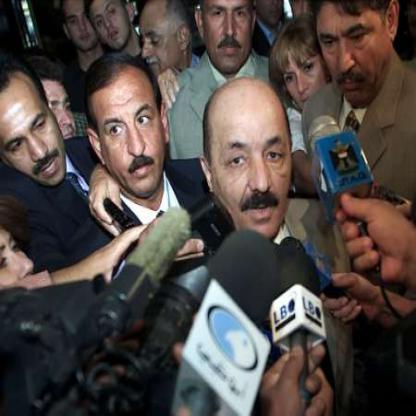face: (210, 79, 295, 245), (99, 51, 163, 198), (319, 1, 391, 110), (1, 71, 59, 198), (26, 65, 78, 167), (280, 20, 328, 118), (204, 1, 257, 73), (137, 1, 182, 83), (92, 1, 131, 54), (66, 1, 98, 53)
